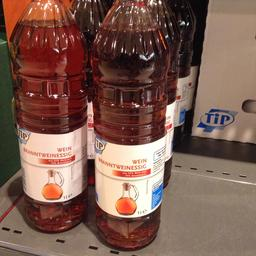vinegar: (88, 0, 170, 250), (8, 0, 91, 233)
